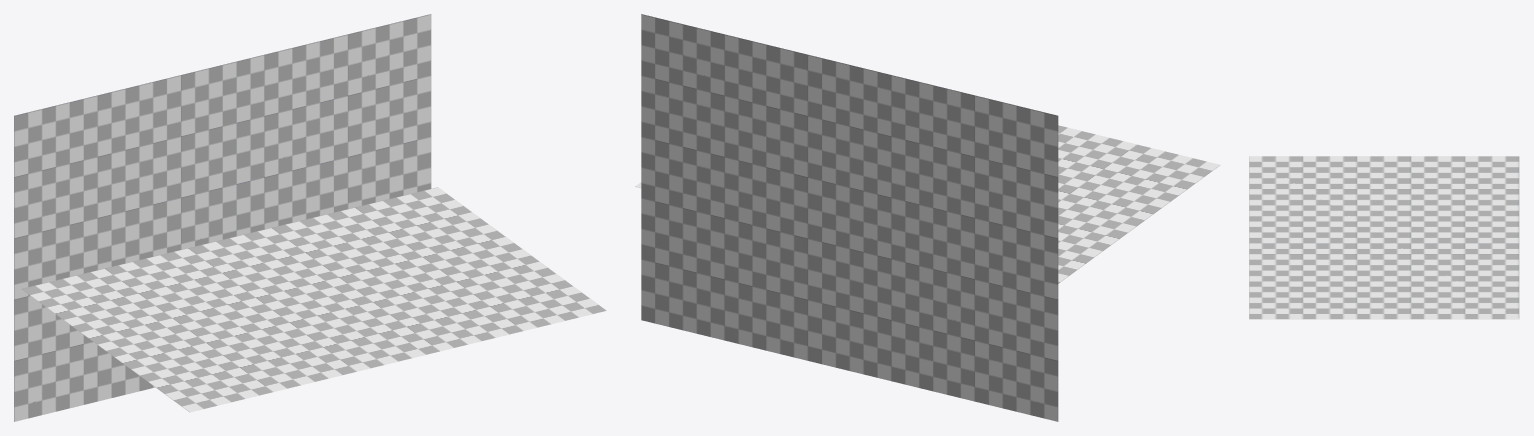
The model's file is zhanshi.FBX.
The picture shows the model from 3 angles, left to right: view 1: azimuth 30°, elevation 25°; view 2: azimuth 150°, elevation 25°; view 3: azimuth 270°, elevation 25°; orthographic projection. The views are drawn at different scales.
Parts seen in each view (by area): view 1: Plane001; view 2: Plane001; view 3: Plane001.
Part boxes in pixels (x1=…): Plane001: x1=14, y1=14, x2=606, y2=421; Plane001: x1=635, y1=14, x2=1220, y2=421; Plane001: x1=1249, y1=156, x2=1519, y2=319.
Size of the model in its own units: 203 by 140 by 140.
